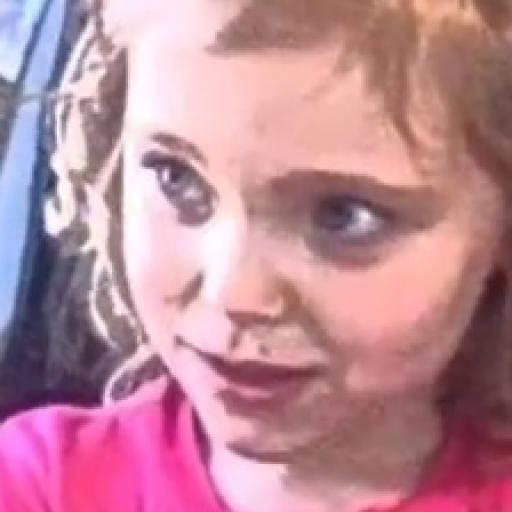Autism: (64, 0, 510, 480)
